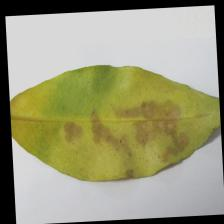canker: (54, 95, 194, 178)
